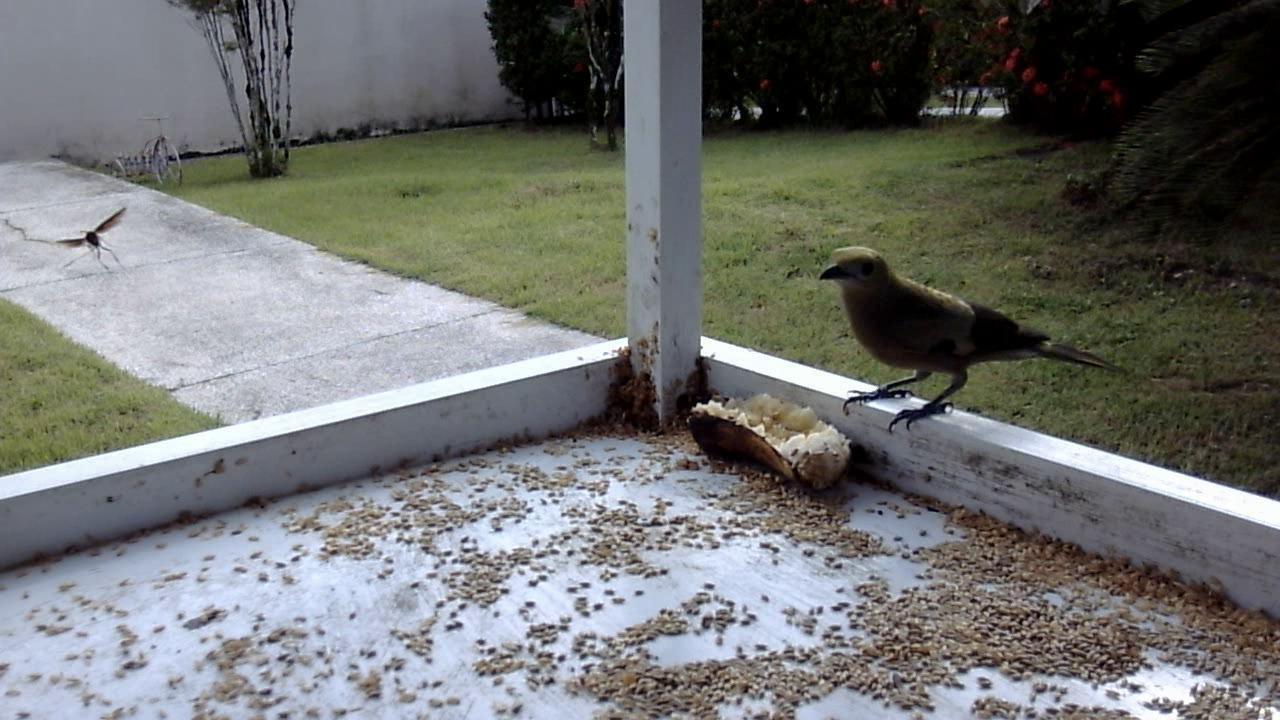sanhaco_do_coqueiro: (814, 244, 1128, 445)
